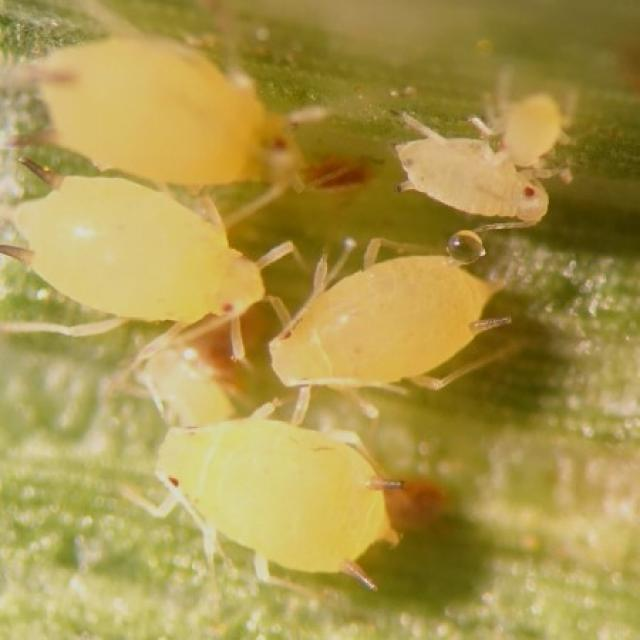Aphid-Grown-: (7, 148, 304, 376), (20, 8, 337, 215), (121, 382, 421, 590), (248, 227, 534, 416), (385, 106, 564, 232)
